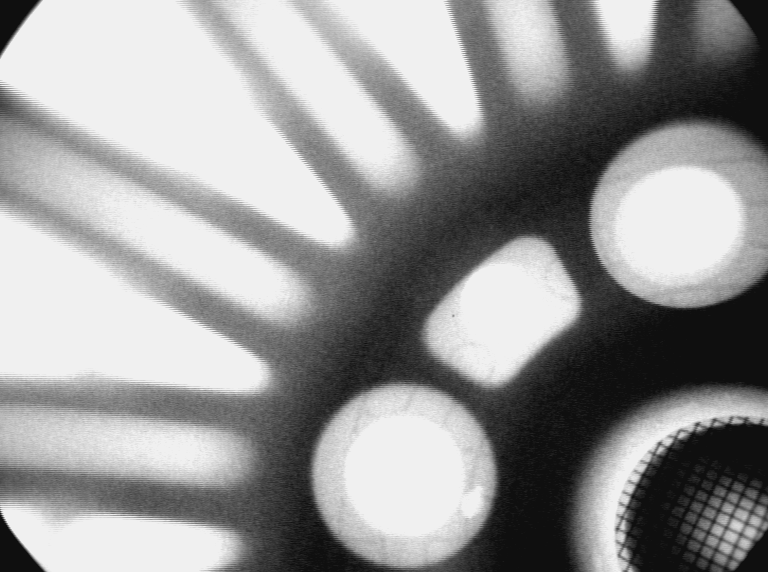defect: (459, 483, 489, 524)
